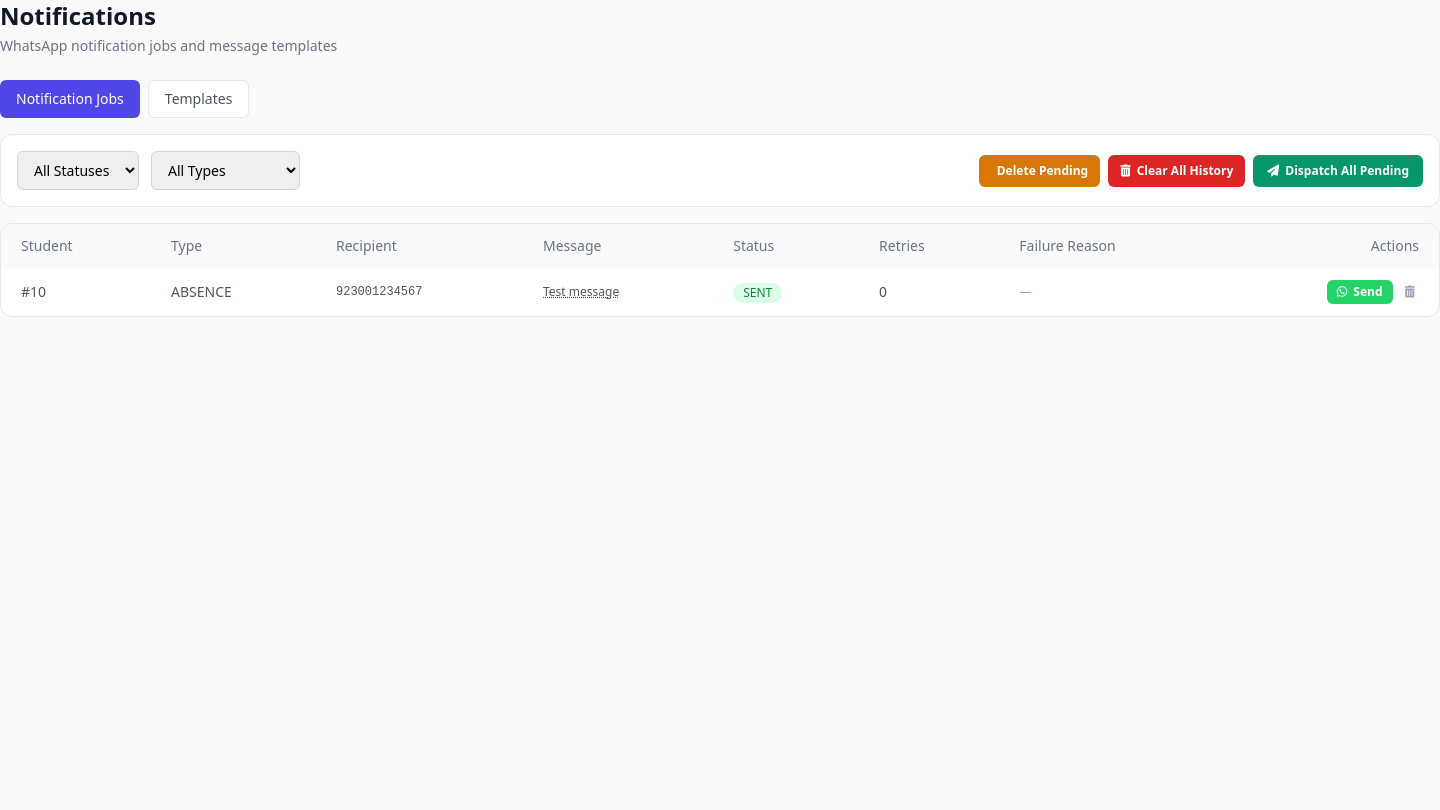
it: NotificationsPage — Delete Actions and WhatsApp Integration › prompts to clear history when clicking Delete Pending with 0 pending jobs
What coordinates should you click on to do the following:
click the button "Delete Pending"
I would click on:
 (1039, 170)
Its box is top-left (979, 154), bottom-right (1100, 186).
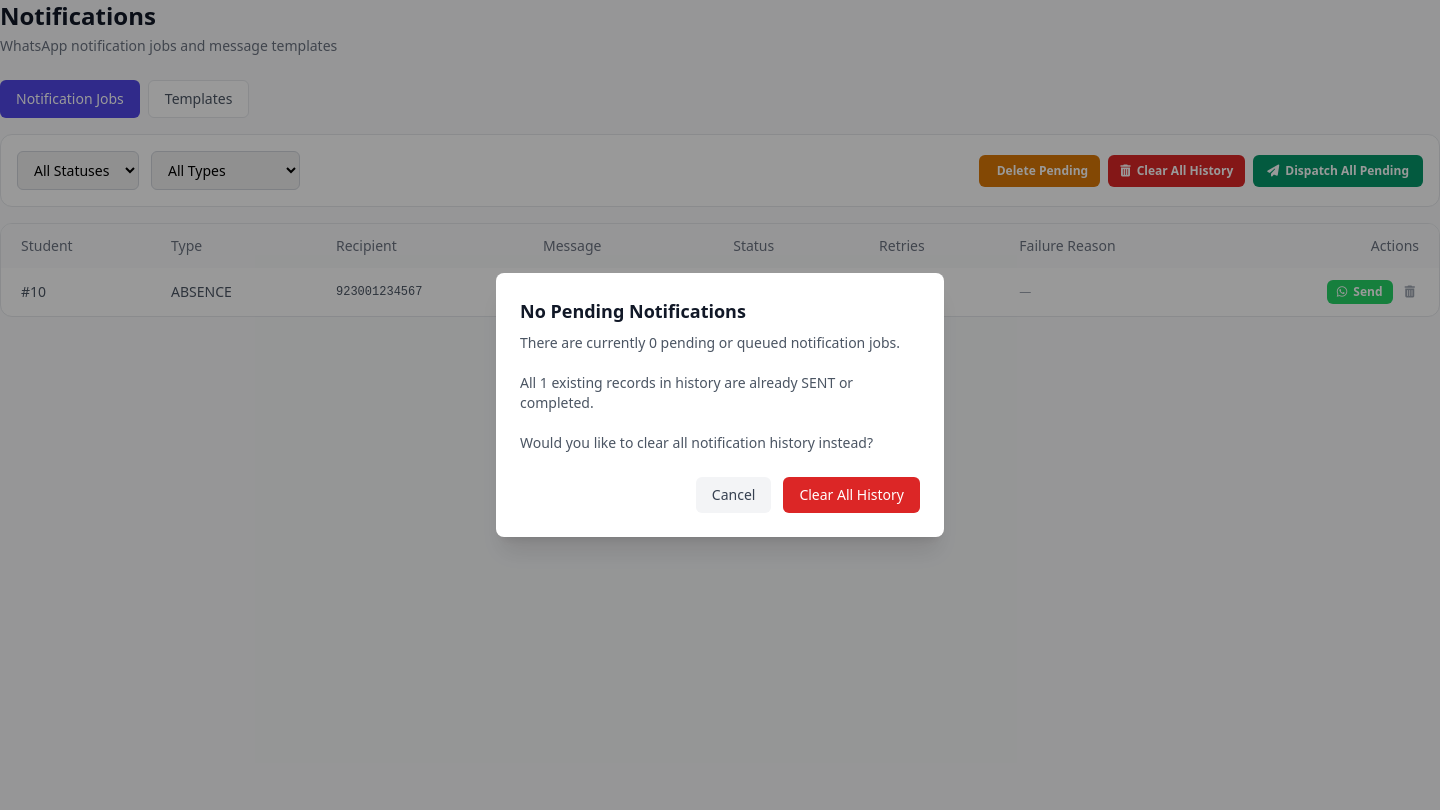
expect the number of buttons "Clear All History" is 2: met, box top-left (1108, 154), bottom-right (1245, 186); top-left (783, 477), bottom-right (920, 513)
expect the heading "No Pending Notifications" is shown: met, box top-left (520, 299), bottom-right (746, 323)
